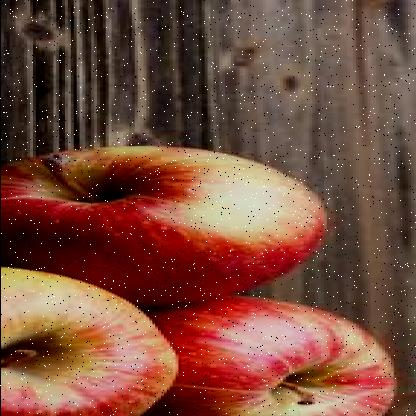apple: (9, 145, 317, 293), (178, 296, 396, 413), (3, 265, 174, 413)
